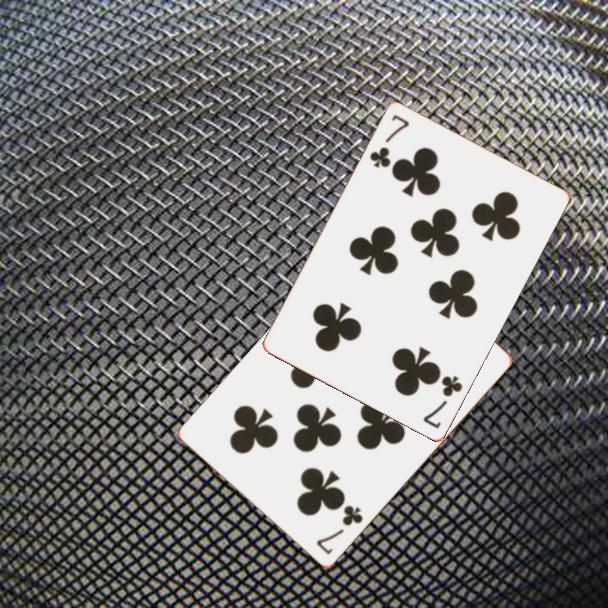c07: (313, 502, 366, 558), (366, 110, 412, 171), (419, 372, 465, 431)
